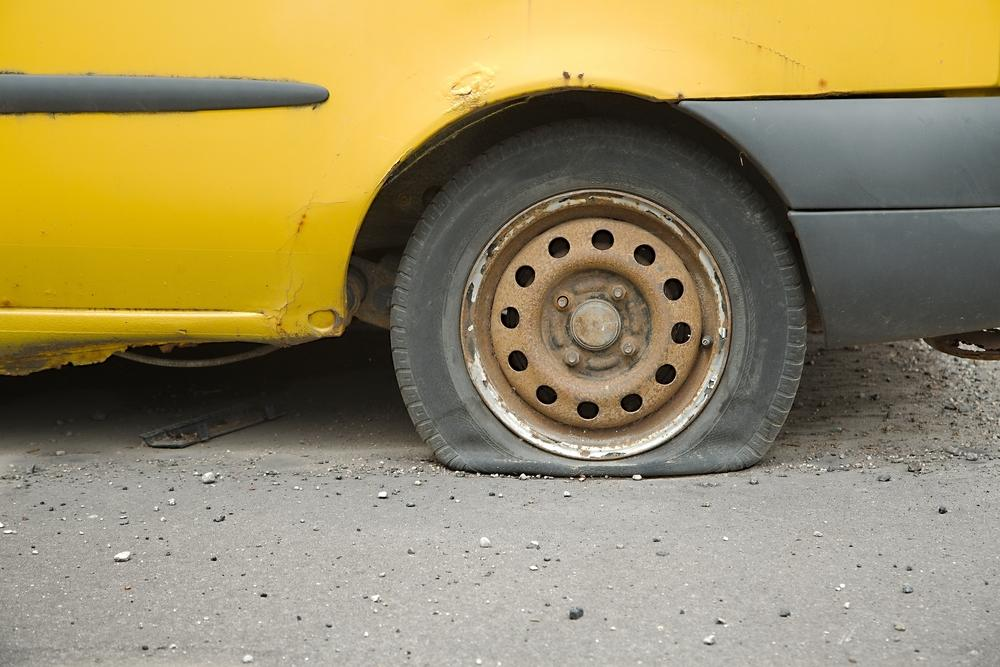tire flat: (392, 109, 808, 478)
